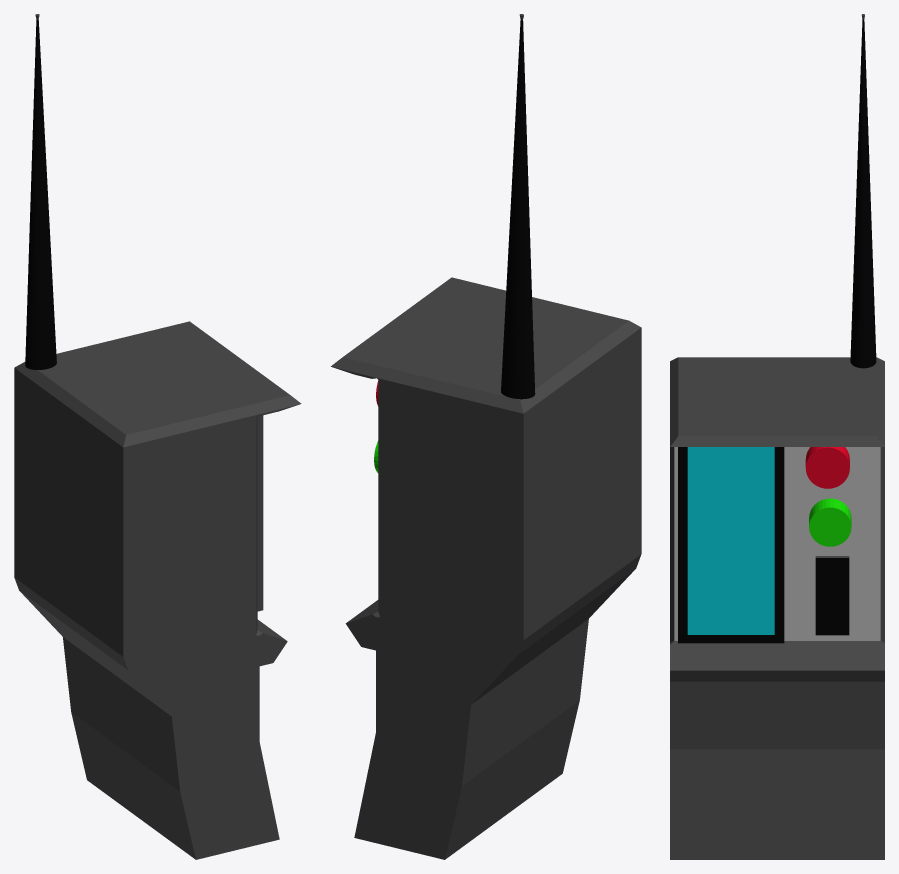
Rendered from radio.fbx.
3 views of the same model, side by side, from view 1: azimuth 30°, elevation 25°; view 2: azimuth 150°, elevation 25°; view 3: azimuth 270°, elevation 25° (orthographic). The views are drawn at different scales.
Parts seen in each view (by area): view 1: Куб; view 2: Куб; view 3: Куб.
Part boxes in pixels (x1,y1,x2,y2): Куб: (14, 14, 301, 859); Куб: (331, 14, 641, 859); Куб: (670, 14, 884, 859).
Size of the model in its own units: 247 by 1041 by 261.
